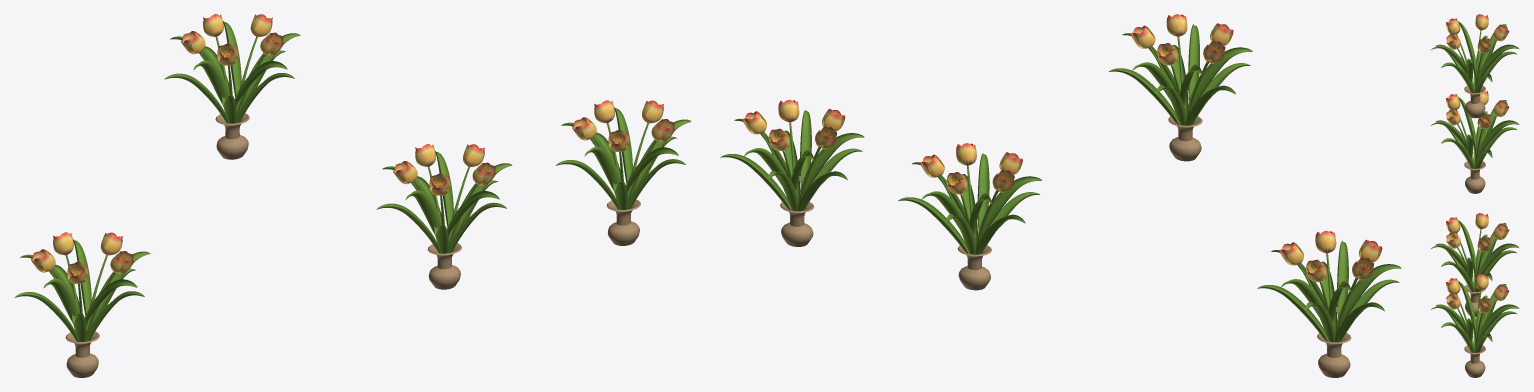
The model's file is Room1-Flower8.glb.
3 renders of one model, left to right at view 1: azimuth 30°, elevation 25°; view 2: azimuth 150°, elevation 25°; view 3: azimuth 270°, elevation 25°, orthographic. The views are drawn at different scales.
Parts seen in each view (by area): view 1: GrowFX01_Material #25_0.001, GrowFX01_Material #25_0.003, GrowFX01_Material #25_0, GrowFX01_Material #25_0.002, Line01__0, Line01__0.001, Line01__0.002, Line01__0.003; view 2: GrowFX01_Material #25_0, GrowFX01_Material #25_0.001, GrowFX01_Material #25_0.002, GrowFX01_Material #25_0.003, Line01__0, Line01__0.002, Line01__0.001, Line01__0.003; view 3: GrowFX01_Material #25_0, GrowFX01_Material #25_0.003, GrowFX01_Material #25_0.002, GrowFX01_Material #25_0.001, Line01__0.001, Line01__0, Line01__0.003, Line01__0.002.
Boxes of the visible parts, bbox=[...] form: GrowFX01_Material #25_0.001: bbox=[14, 232, 150, 341]; GrowFX01_Material #25_0.003: bbox=[555, 100, 691, 209]; GrowFX01_Material #25_0: bbox=[164, 14, 300, 123]; GrowFX01_Material #25_0.002: bbox=[376, 144, 512, 253]; Line01__0: bbox=[215, 113, 249, 159]; Line01__0.001: bbox=[65, 331, 99, 377]; Line01__0.002: bbox=[427, 243, 461, 289]; Line01__0.003: bbox=[606, 199, 640, 245]; GrowFX01_Material #25_0: bbox=[1109, 14, 1252, 125]; GrowFX01_Material #25_0.001: bbox=[1257, 230, 1401, 342]; GrowFX01_Material #25_0.002: bbox=[898, 143, 1042, 254]; GrowFX01_Material #25_0.003: bbox=[720, 99, 864, 211]; Line01__0: bbox=[1168, 116, 1202, 161]; Line01__0.002: bbox=[957, 245, 991, 290]; Line01__0.001: bbox=[1317, 333, 1351, 377]; Line01__0.003: bbox=[780, 202, 814, 246]; GrowFX01_Material #25_0: bbox=[1431, 14, 1518, 93]; GrowFX01_Material #25_0.003: bbox=[1431, 274, 1519, 352]; GrowFX01_Material #25_0.002: bbox=[1431, 213, 1518, 291]; GrowFX01_Material #25_0.001: bbox=[1431, 91, 1519, 168]; Line01__0.001: bbox=[1464, 161, 1485, 193]; Line01__0: bbox=[1464, 85, 1485, 118]; Line01__0.003: bbox=[1464, 345, 1485, 377]; Line01__0.002: bbox=[1464, 284, 1485, 316].
Bounding box in the file's own units: 8.52 × 3.79 × 1.41.
4 materials, 1 textured.
